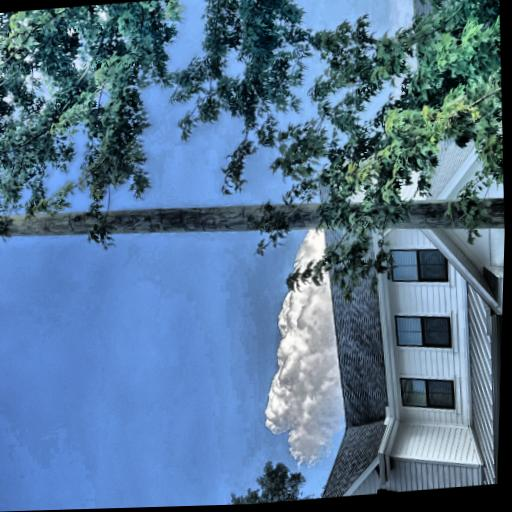pole: (67, 17, 191, 510)
street light: (46, 1, 151, 80)
